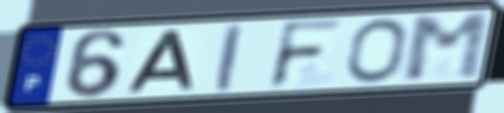6: (61, 27, 130, 100)
A: (123, 28, 198, 94)
F: (265, 17, 347, 92)
I: (215, 21, 246, 94)
M: (402, 10, 492, 85)
O: (345, 16, 410, 85)
